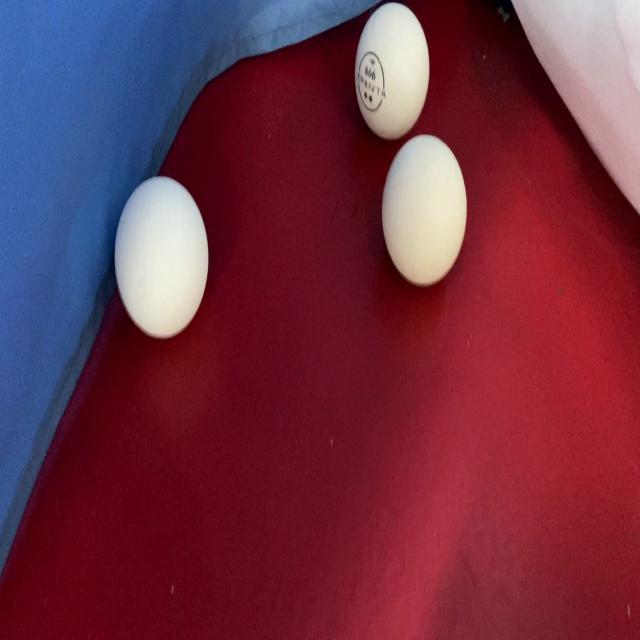ping-pong-ball: (114, 170, 212, 342), (377, 131, 469, 288), (352, 0, 432, 138)
